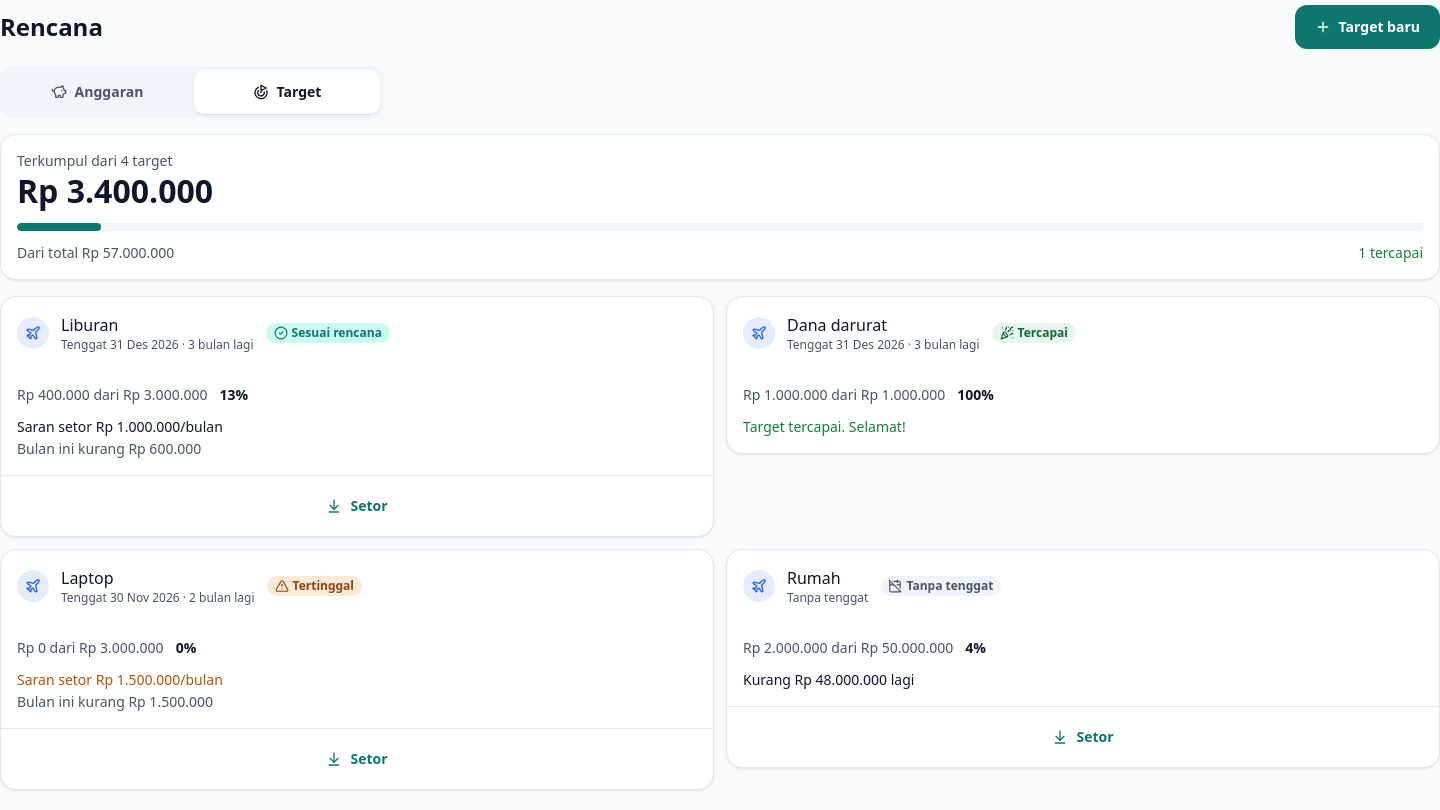
Test: GoalsPage › setor = transfer dari dompet lain: validasi, pakai saran, Idempotency-Key
The image size is (1440, 810).
Click the button with aria-label "Setor ke Liburan" at (357, 506), box [9,484,705,528]
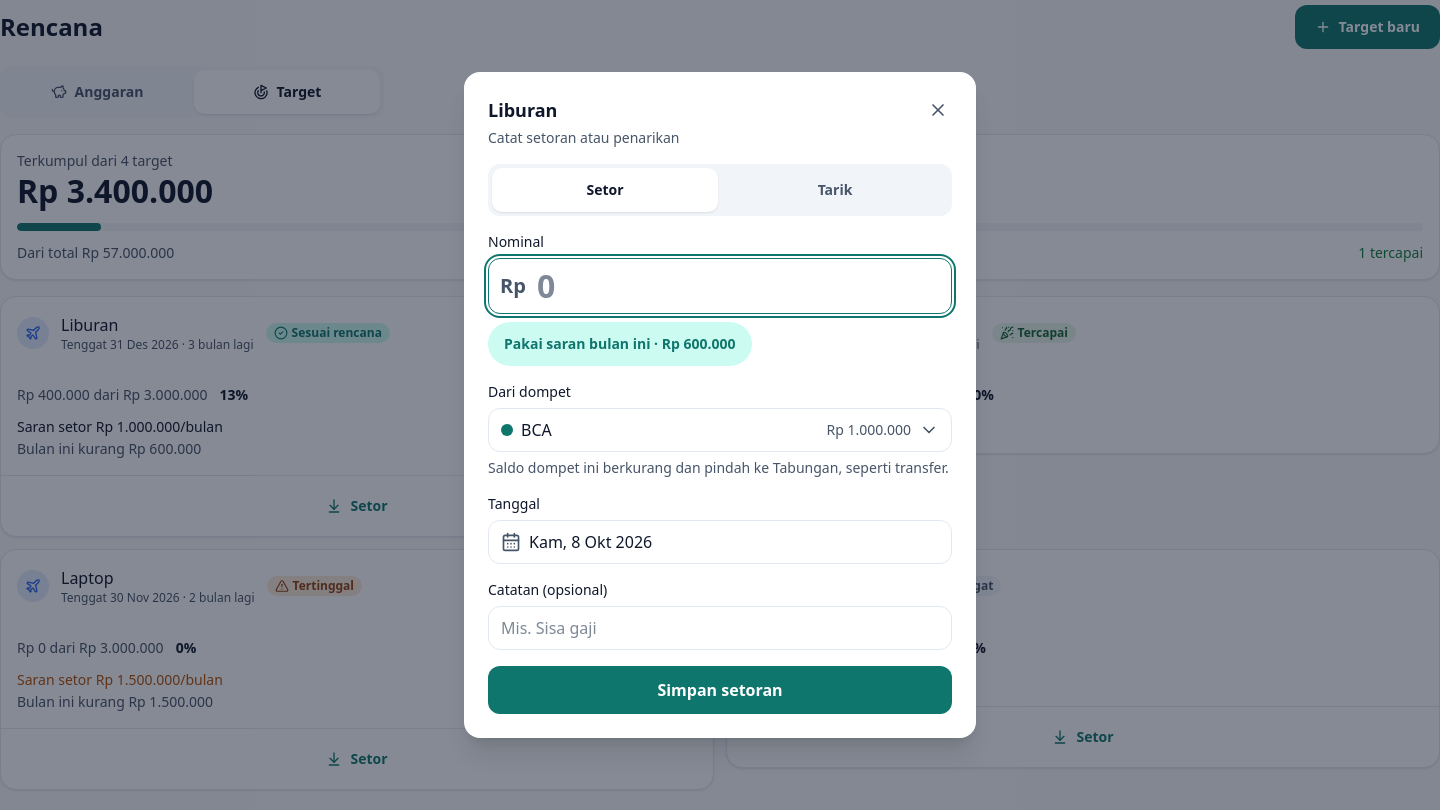
Expected: the dropdown named "Dari dompet" shows "BCA", [488,408,952,452]
Expected: the text "Saldo dompet ini berkurang dan pindah ke Tabungan, seperti transfer." is shown, [488,458,952,478]
Click the button "Simpan setoran" at (720, 690), box [488,666,952,714]
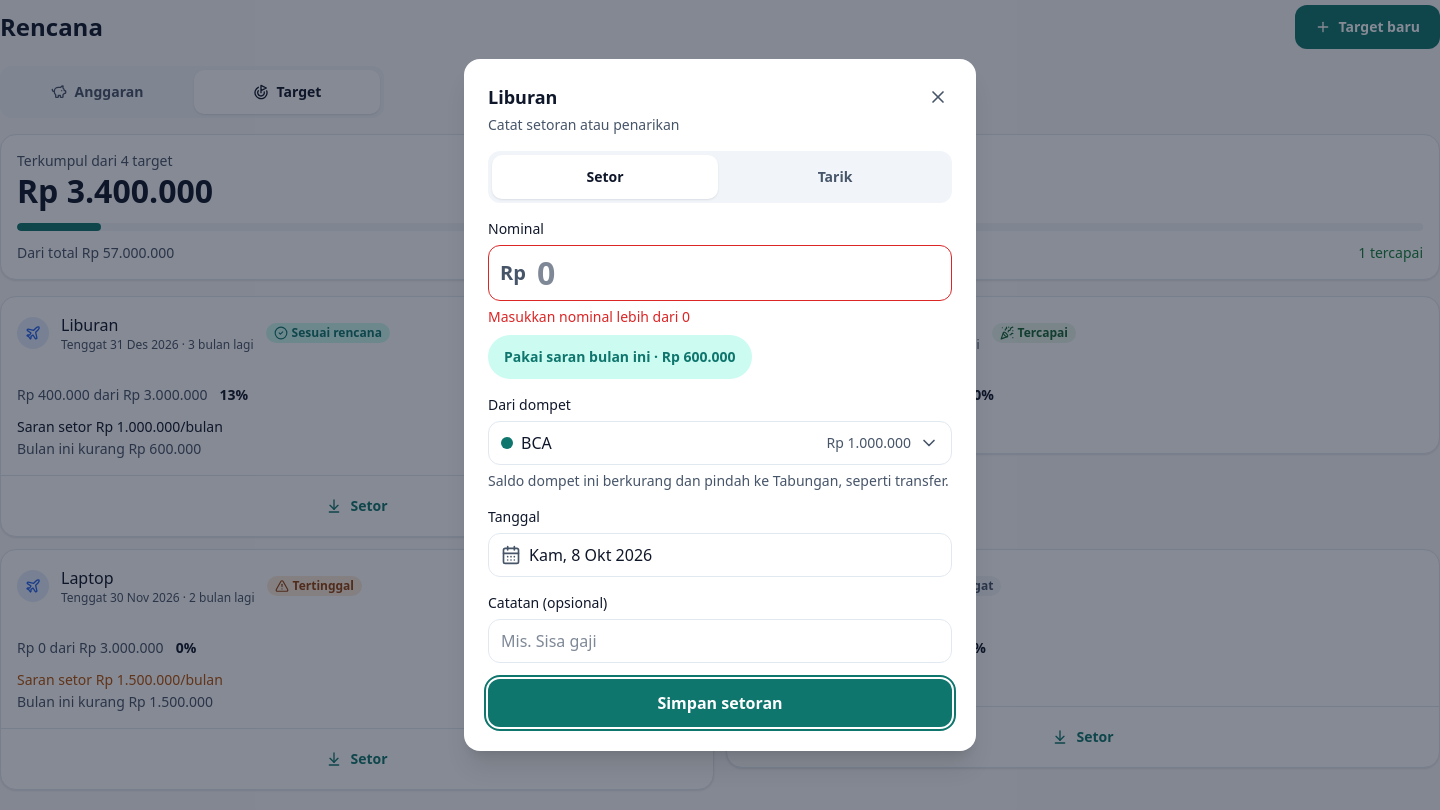
Expected: the text "Masukkan nominal lebih dari 0" is shown, [488,307,690,326]
Click the button "Pakai saran bulan ini · Rp 600.000" at (620, 357), box [488,335,752,379]
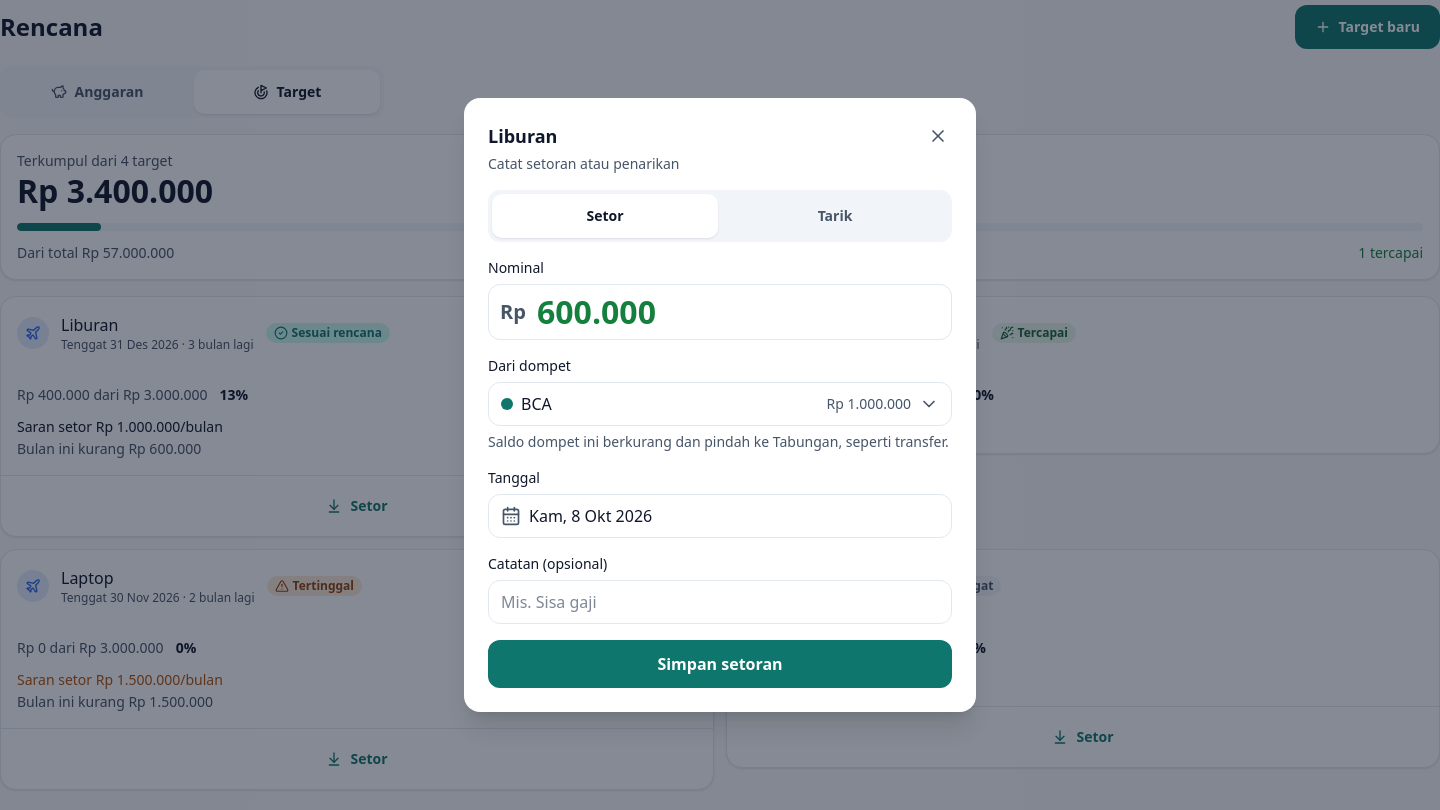
Type "Sisa gaji" into the field labelled "Catatan (opsional)" at (720, 602), box [488,580,952,624]
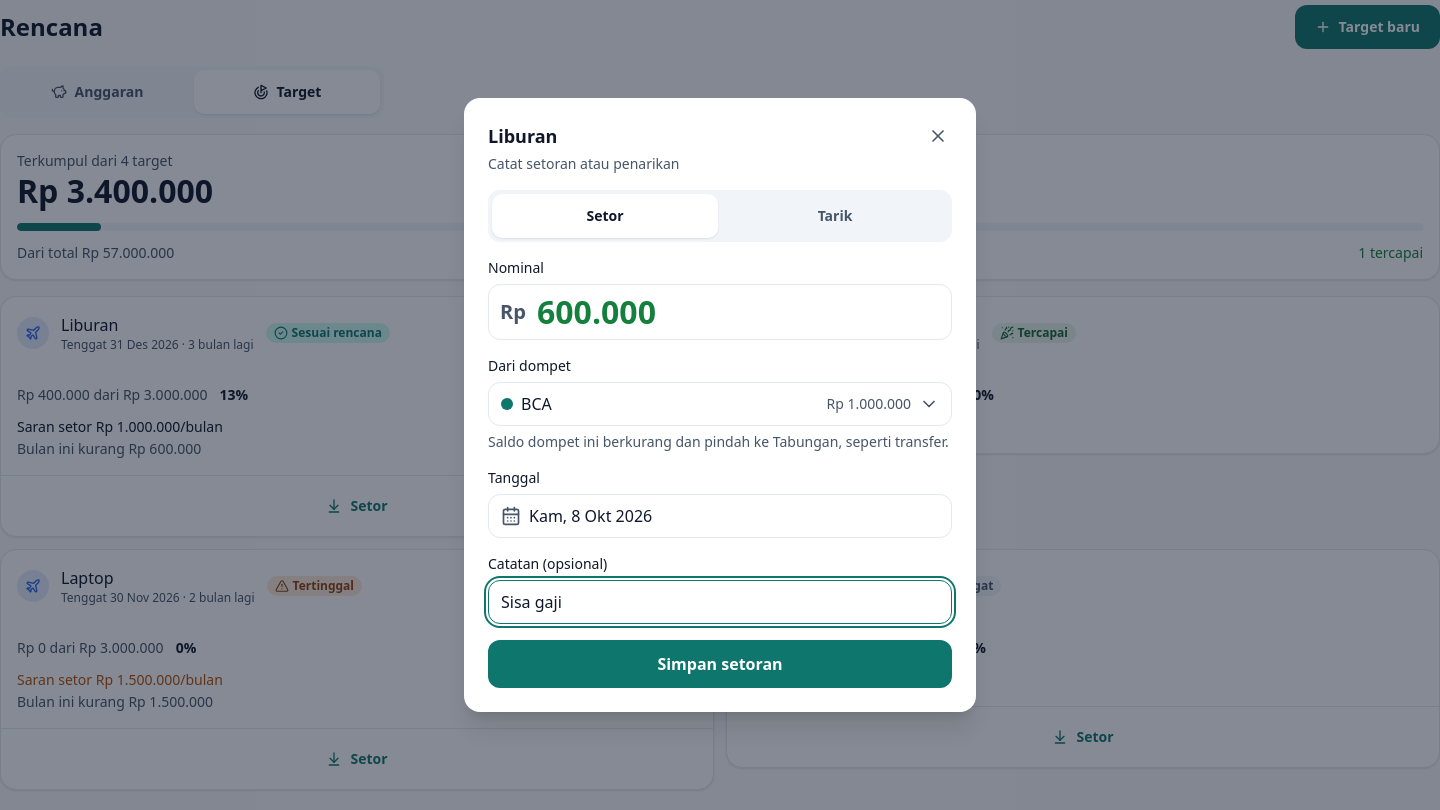
Click the button "Simpan setoran" at (720, 664), box [488,640,952,688]
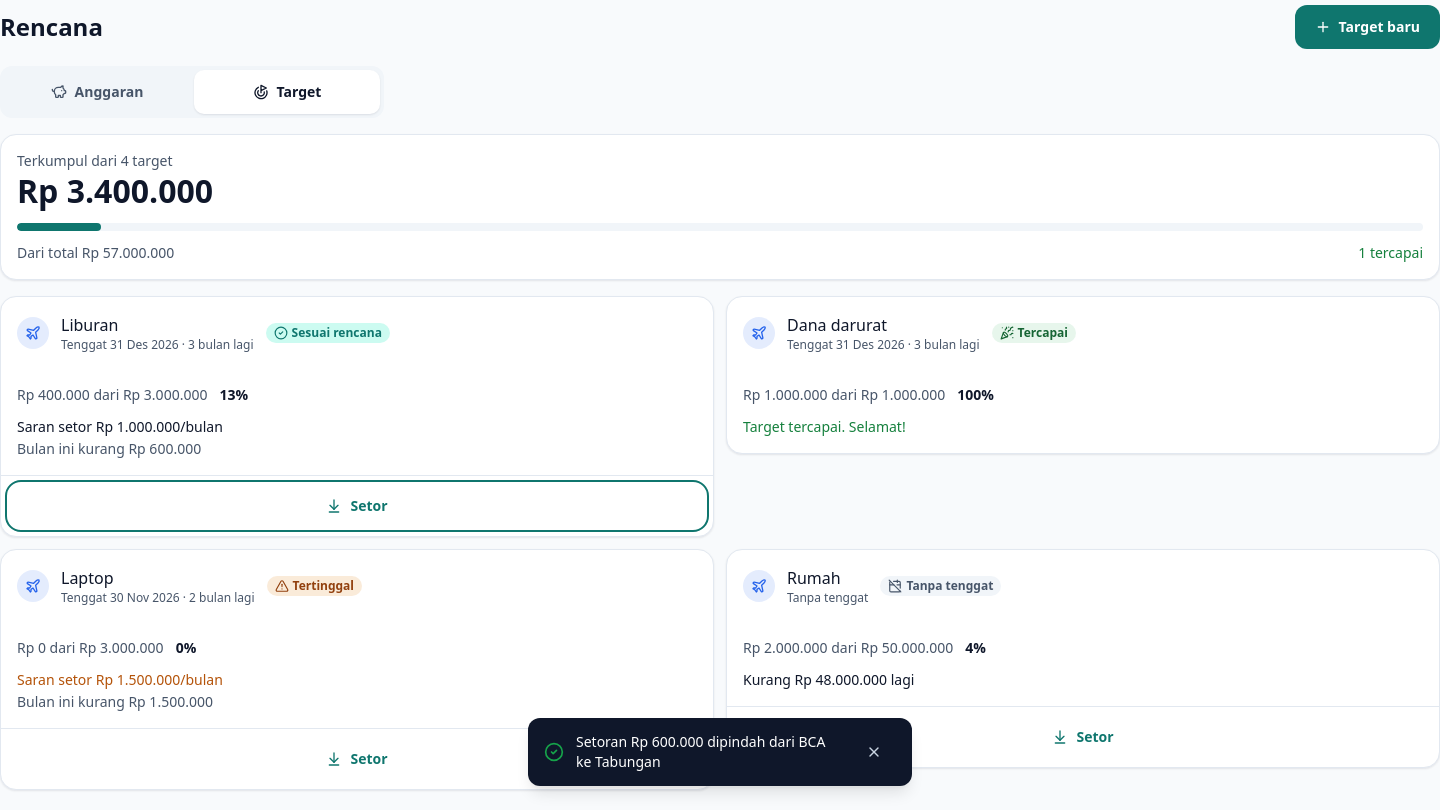
Expected: the text "Setoran Rp 600.000 dipindah dari BCA ke Tabungan" is shown, [576,732,840,772]
